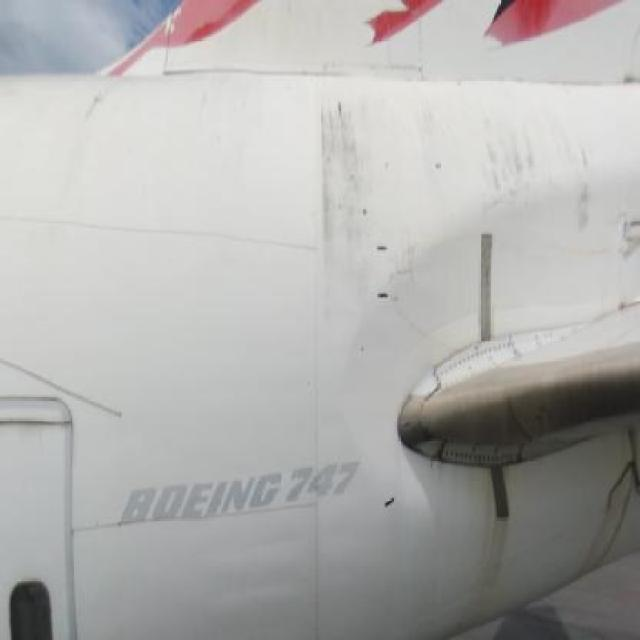Missing-Rivet: (428, 332, 530, 386), (435, 432, 534, 472)
Rust: (402, 87, 608, 233), (319, 104, 395, 333), (453, 462, 515, 618), (579, 441, 639, 579), (3, 364, 86, 458), (538, 234, 616, 289), (617, 182, 640, 253)
